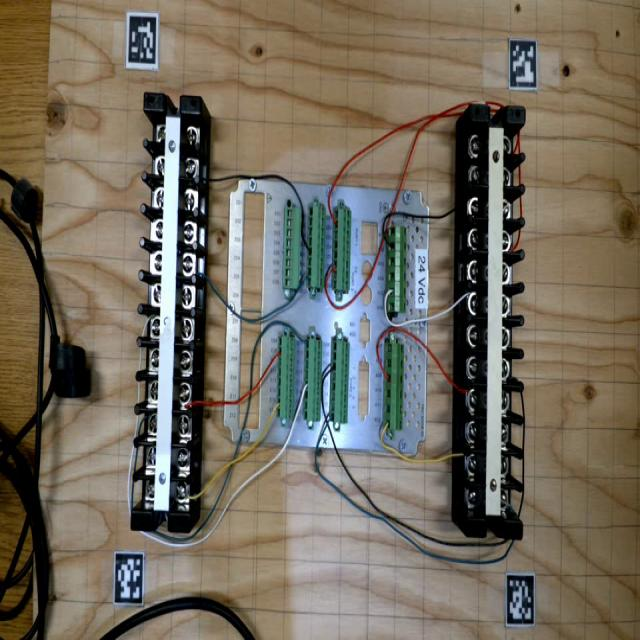Flathead_Block: (466, 105, 526, 540)
Phillips_Block: (131, 93, 203, 533)
Terminal_1: (384, 343, 404, 430), (387, 227, 407, 313)
Terminal_2: (330, 341, 350, 423), (307, 205, 326, 288), (332, 208, 351, 290), (277, 336, 295, 418), (304, 339, 322, 421)
